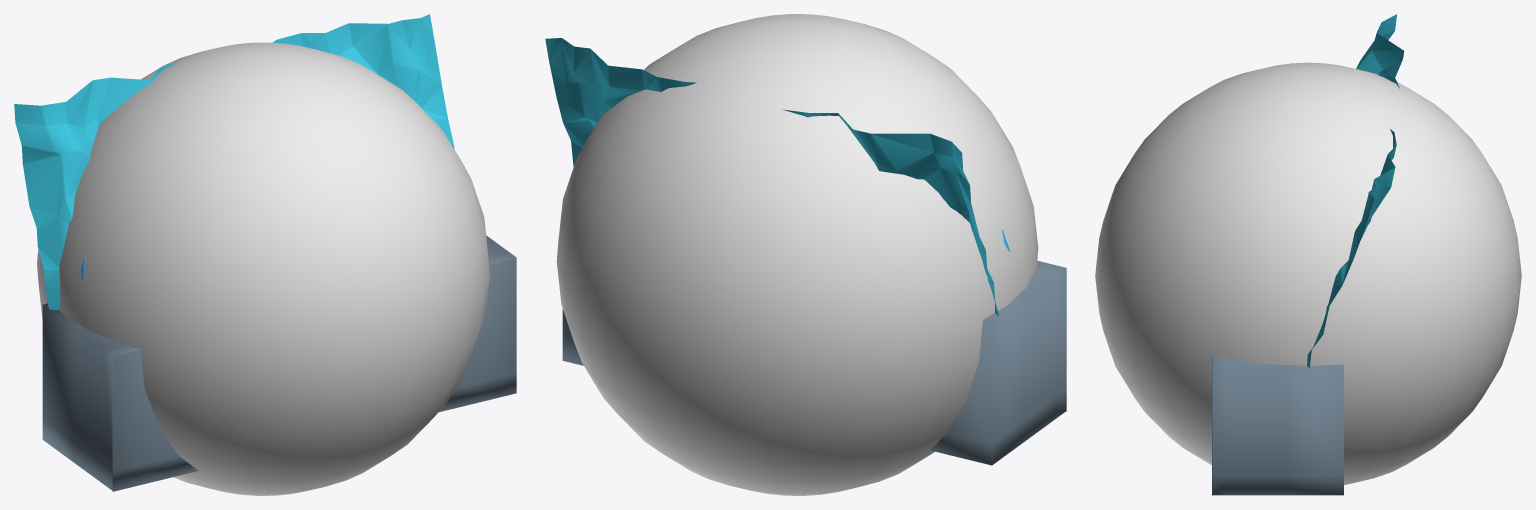
Rendered from BF_Planet3.fbx.
The picture shows the model from 3 angles, left to right: view 1: azimuth 30°, elevation 25°; view 2: azimuth 150°, elevation 25°; view 3: azimuth 270°, elevation 25°; orthographic projection. The views are drawn at different scales.
Visible parts, largest first — view 1: SkySphere, GroundPlane, BackWall; view 2: SkySphere, GroundPlane, BackWall; view 3: SkySphere, GroundPlane, BackWall.
Boxes of the visible parts, bbox=[...] form: SkySphere: bbox=[37, 42, 489, 495]; GroundPlane: bbox=[42, 235, 516, 491]; BackWall: bbox=[14, 14, 454, 309]; SkySphere: bbox=[556, 14, 1038, 495]; GroundPlane: bbox=[562, 261, 1066, 465]; BackWall: bbox=[545, 38, 998, 315]; SkySphere: bbox=[1095, 62, 1521, 485]; GroundPlane: bbox=[1212, 356, 1343, 495]; BackWall: bbox=[1307, 14, 1404, 367].
Size of the model in its own units: 28280 by 27432 by 27432.
